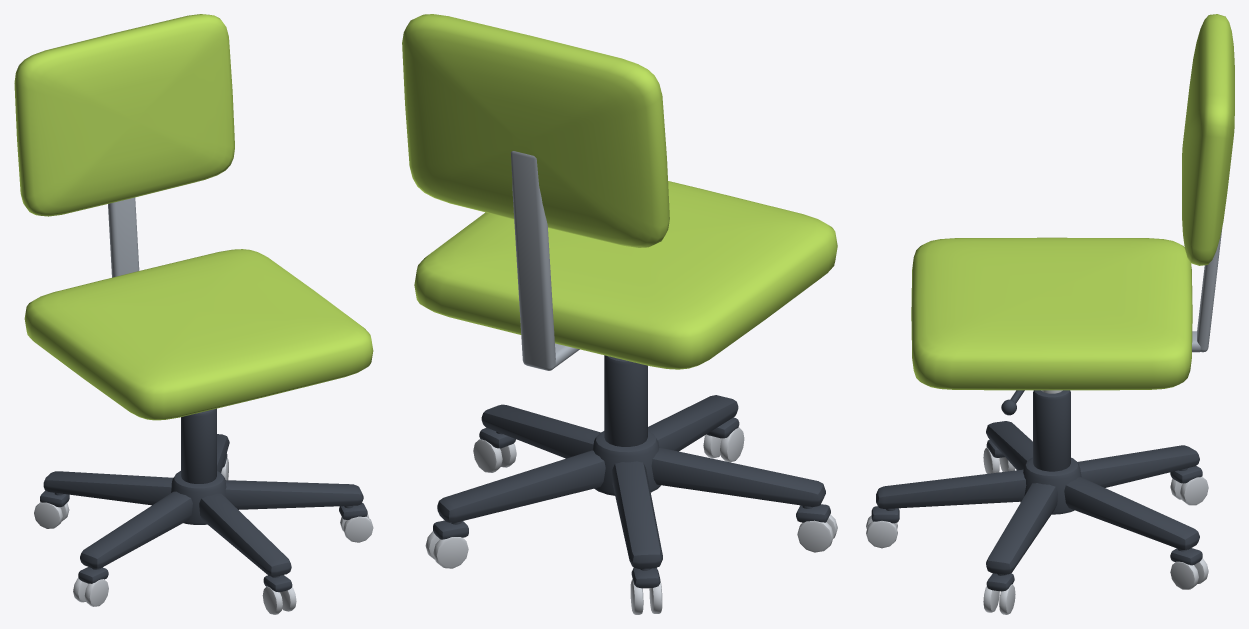
File: cadeira_escritorio_simples_lima.glb
3 views of the same model, side by side, from view 1: azimuth 30°, elevation 25°; view 2: azimuth 150°, elevation 25°; view 3: azimuth 270°, elevation 25° (orthographic). The views are drawn at different scales.
Parts seen in each view (by area): view 1: cadeira_escritorio_simples_lima; view 2: cadeira_escritorio_simples_lima; view 3: cadeira_escritorio_simples_lima.
Boxes of the visible parts, left/top/right/bottom form: cadeira_escritorio_simples_lima: left=14, top=14, right=373, bottom=614; cadeira_escritorio_simples_lima: left=402, top=14, right=837, bottom=614; cadeira_escritorio_simples_lima: left=866, top=14, right=1234, bottom=614.
Bounding box in the file's own units: 0.5884 × 0.8784 × 0.603.
1 material, 1 textured.
